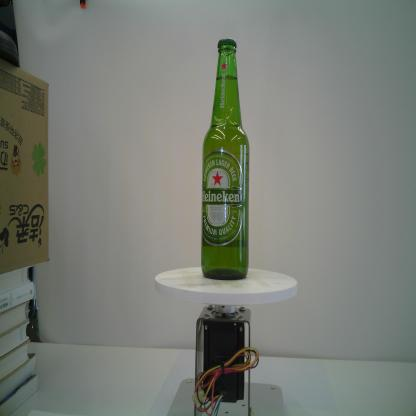Alcohol: (201, 37, 250, 282)
